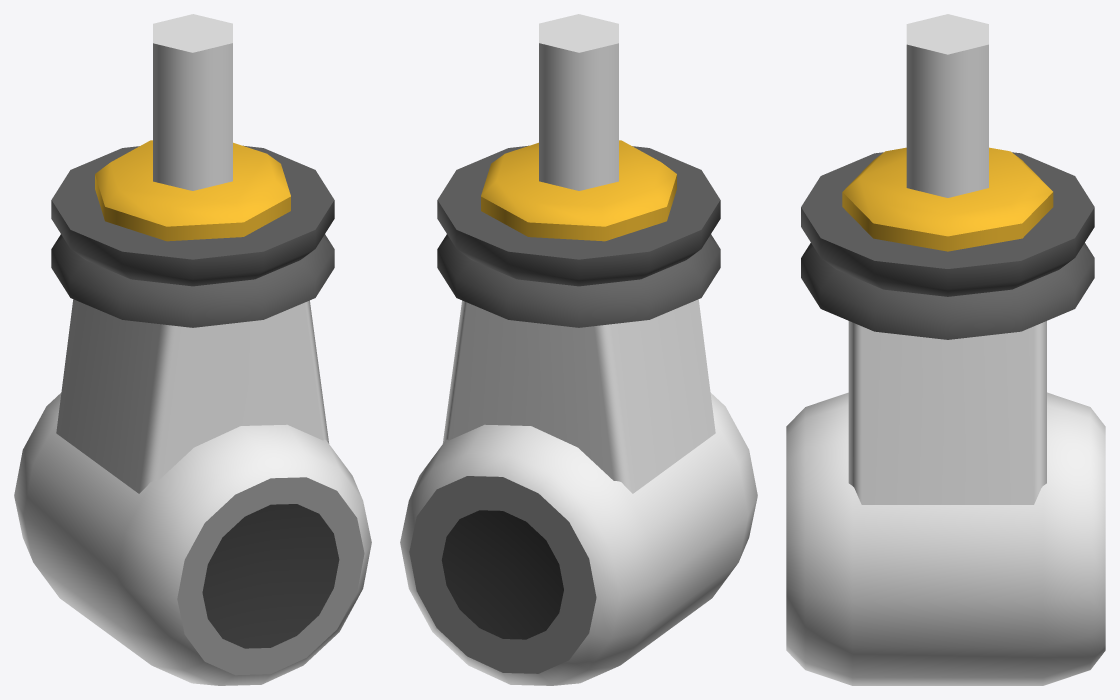
File: turret_005.fbx
The picture shows the model from 3 angles, left to right: view 1: azimuth 30°, elevation 25°; view 2: azimuth 150°, elevation 25°; view 3: azimuth 270°, elevation 25°; orthographic projection. The views are drawn at different scales.
Parts seen in each view (by area): view 1: turret_005; view 2: turret_005; view 3: turret_005.
Part boxes in pixels (x1,y1,x2,y2): turret_005: [14, 14, 371, 685]; turret_005: [400, 14, 757, 685]; turret_005: [786, 14, 1105, 685].
Bounding box in the file's own units: 178 × 192 × 423.
